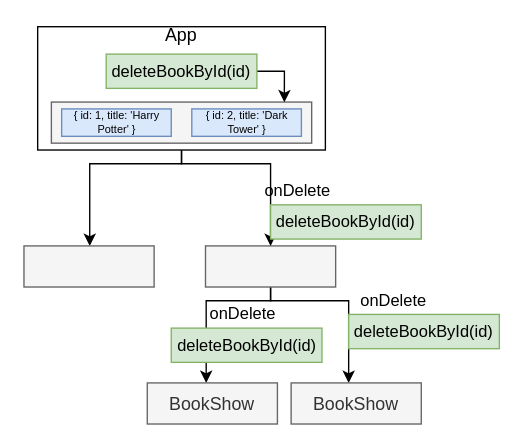
Image size: 523x448. Some labels were removed from this diagram. Here are the shapes that lost their labels. From the top down, the centre of each, then its label:
At (88,266): "BookCreate".
At (270,266): "BookList".
